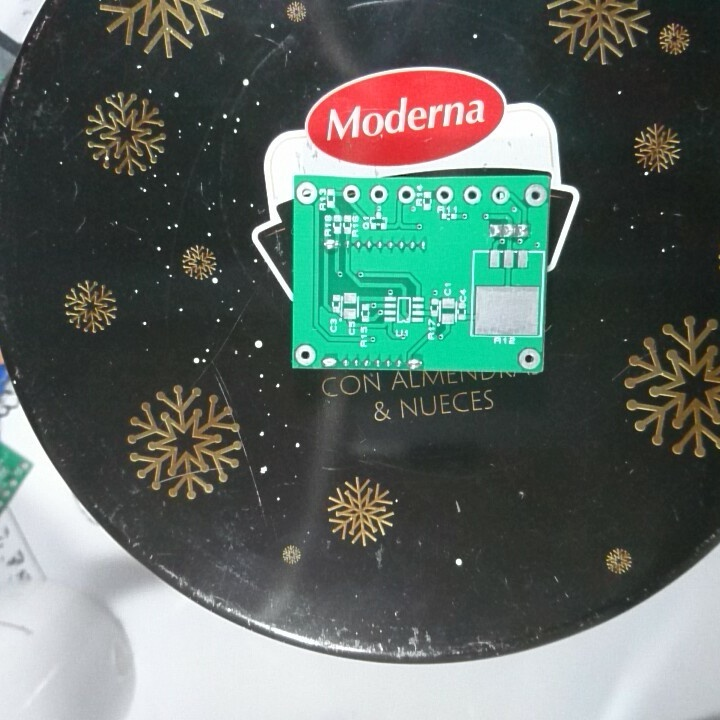F: (522, 180, 548, 210), (516, 343, 541, 371), (292, 341, 318, 367), (294, 180, 318, 206), (488, 181, 512, 206), (339, 183, 362, 206), (432, 184, 456, 206), (395, 183, 416, 206), (461, 183, 482, 205), (368, 183, 389, 204)
P: (319, 235, 340, 252), (405, 354, 425, 370), (319, 353, 340, 368)
